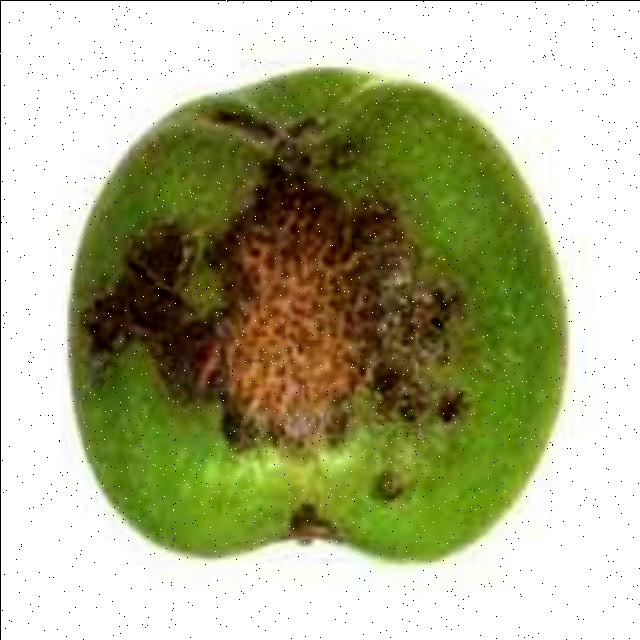SCAB: (47, 51, 559, 594)
